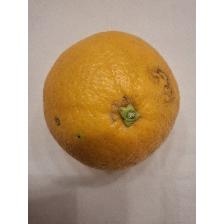Orange: (41, 29, 181, 173)
